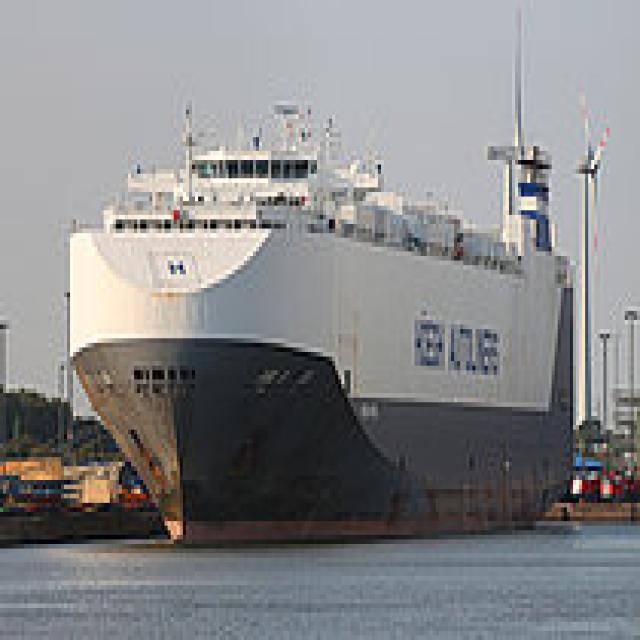Carrier: (58, 92, 576, 553)
